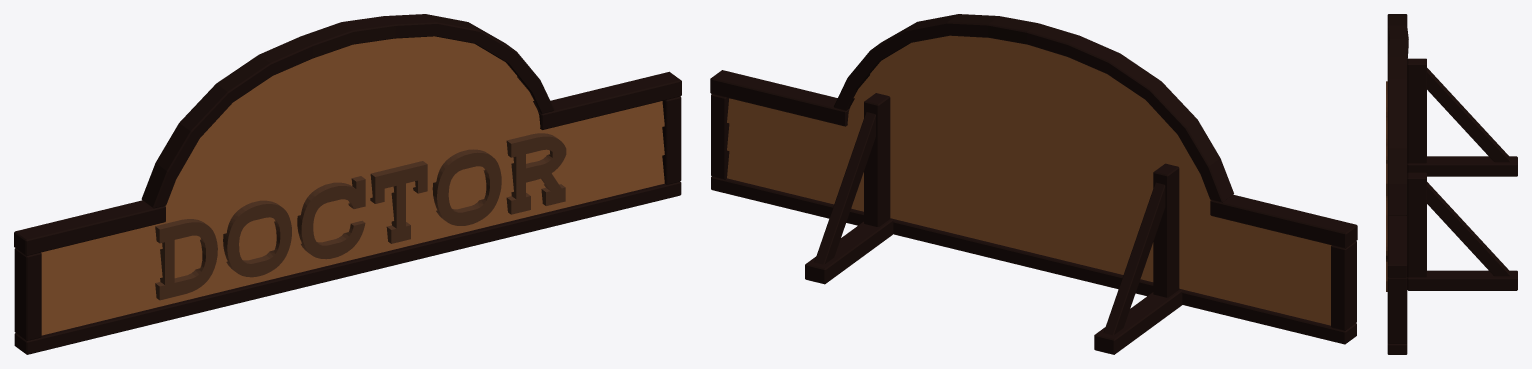
File: ww_doctor_sign_b.glb
3 renders of one model, left to right at view 1: azimuth 30°, elevation 25°; view 2: azimuth 150°, elevation 25°; view 3: azimuth 270°, elevation 25°, orthographic. The views are drawn at different scales.
Parts seen in each view (by area): view 1: Doctor_Sign_B; view 2: Doctor_Sign_B; view 3: Doctor_Sign_B.
Boxes of the visible parts, bbox=[...] form: Doctor_Sign_B: bbox=[14, 14, 681, 354]; Doctor_Sign_B: bbox=[710, 14, 1357, 354]; Doctor_Sign_B: bbox=[1386, 14, 1517, 354].
Size of the model in its own units: 10.56 by 3.75 by 2.34.
